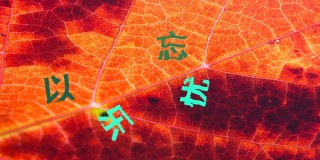乐: (96, 103, 136, 142)
以: (43, 73, 76, 104)
忘: (156, 27, 188, 63)
忧: (178, 75, 209, 111)
